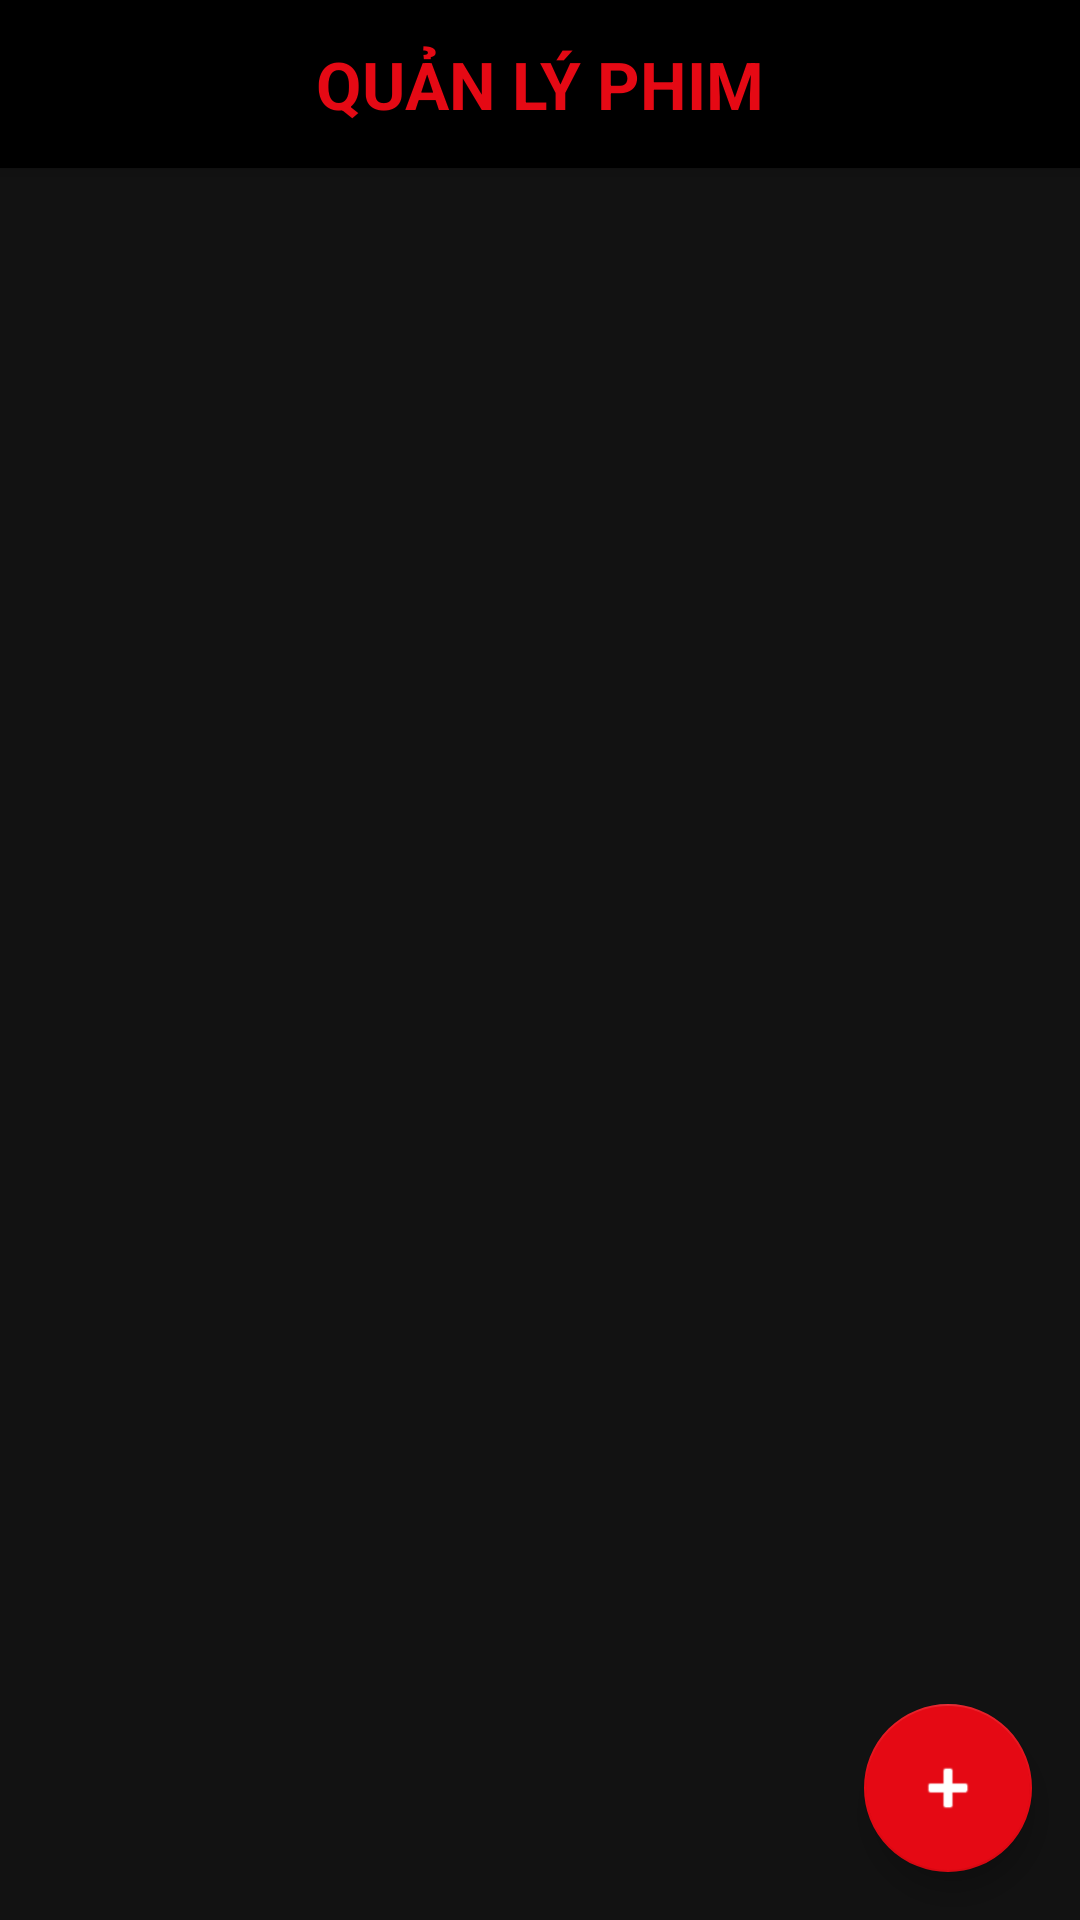

Screen size 1080 x 1920. Icon name, then its center in pixels as [x,y]:
Thêm phim mới: [948,1788]
